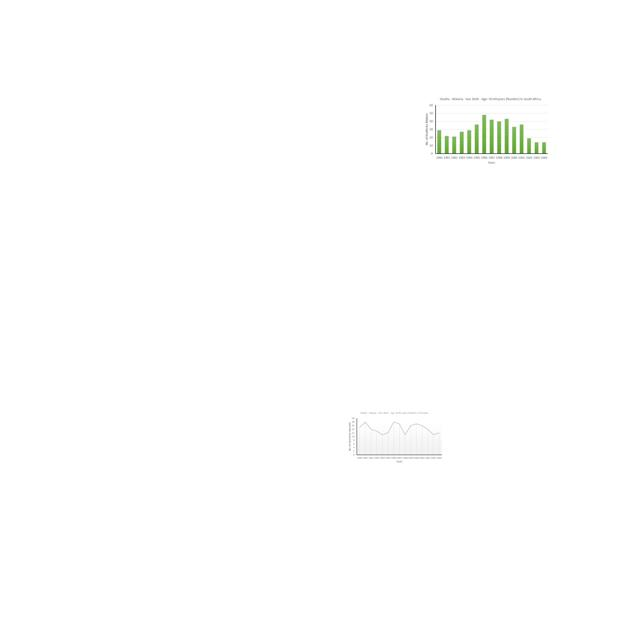Graph: (422, 94, 549, 165), (346, 410, 444, 465)
